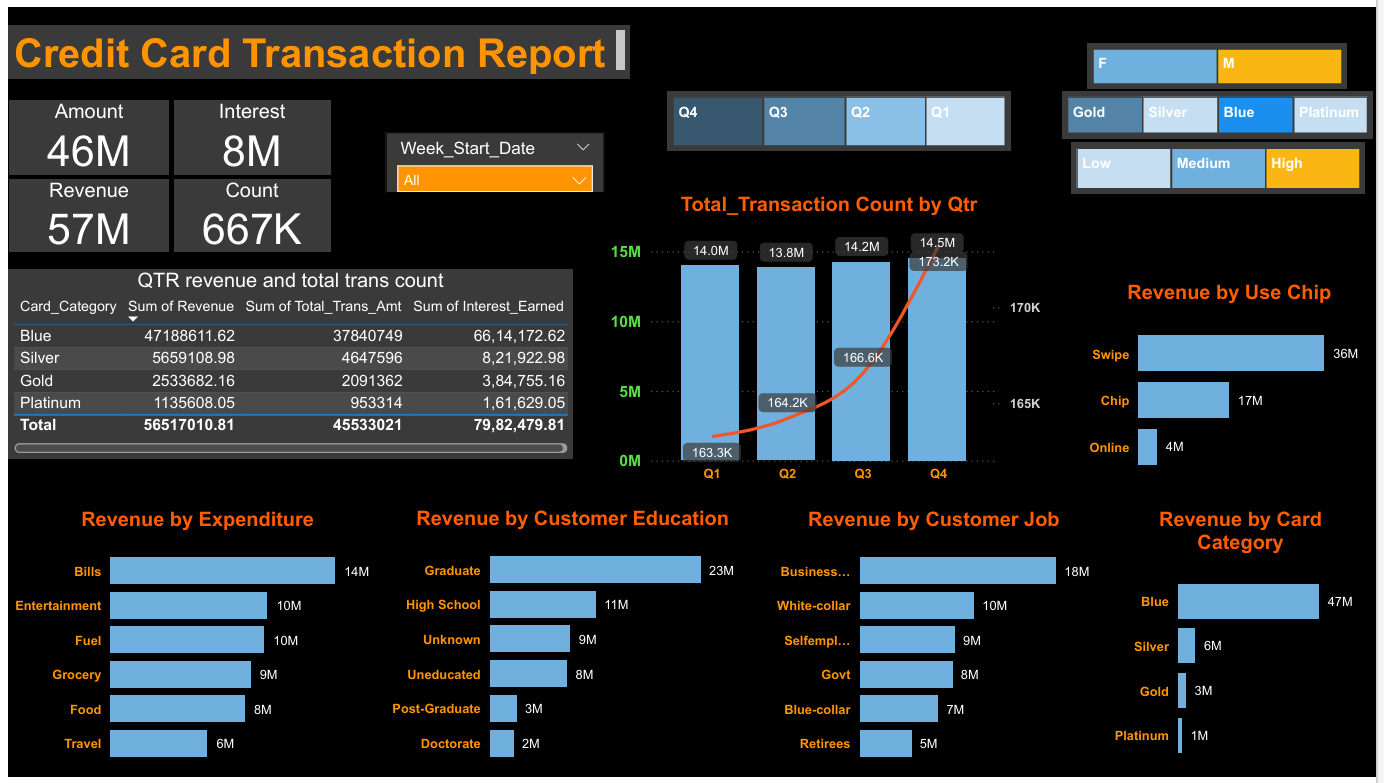

The page's visual inventory and layout, read from the dashboard file:
{"tool":"powerbi","page":{"name":"Page 2","canvas":[1280,720],"ordinal":1},"visuals":[{"type":"lineStackedColumnComboChart","title":" Total_Transaction Count by Qtr","fields":{"Y2":["Sum(creditcard_detail.Total_Trans_Ct)"],"Category":["credit_card (1).Qtr"],"Y":["Sum(credit_card (1).Revenue)"]},"box":[558.3,174.2,419.6,277.3],"z":0},{"type":"tableEx","title":"QTR revenue and  total trans count","fields":{"Values":["credit_card (1).Card_Category","Sum(credit_card (1).Revenue)","Sum(credit_card (1).Total_Trans_Amt)","Sum(credit_card (1).Interest_Earned)"]},"box":[0,244.6,527.7,177.6],"z":1000},{"type":"barChart","title":" Revenue by Expenditure ","fields":{"Category":["creditcard_detail.Exp_Type"],"Y":["Sum(credit_card (1).Revenue)"]},"box":[0,467.9,353.9,252.1],"z":2000},{"type":"barChart","title":" Revenue by Customer Education","fields":{"Y":["Sum(credit_card (1).Revenue)"],"Category":["customer.Education_Level"]},"box":[353.4,467.5,349.7,252.8],"z":3000},{"type":"barChart","title":" Revenue by Customer Job","fields":{"Y":["Sum(credit_card (1).Revenue)"],"Category":["customer.Customer_Job"]},"box":[702.7,467.5,326.4,252.3],"z":4000},{"type":"barChart","title":" Revenue by Card Category","fields":{"Y":["Sum(credit_card (1).Revenue)"],"Category":["credit_card (1).Card_Category"]},"box":[1029.1,467.5,248,252.3],"z":5000},{"type":"barChart","title":" Revenue by Use Chip","fields":{"Y":["Sum(credit_card (1).Revenue)"],"Category":["creditcard_detail.Use_Chip"]},"box":[1004.9,256.4,274.8,195.1],"z":6000},{"type":"slicer","fields":{"Values":["credit_card (1).Week_Start_Date"]},"box":[353.4,116.6,204.9,57.7],"z":7000},{"type":"treemap","fields":{"Group":["credit_card (1).Qtr"],"Values":["Avg(customer.Client_Num)"]},"box":[617.2,79.5,320.4,55.9],"z":8000},{"type":"treemap","fields":{"Values":["Avg(customer.Client_Num)"],"Group":["customer.Gender"]},"box":[1009.5,33.5,243.4,43.5],"z":9000},{"type":"treemap","fields":{"Values":["Avg(customer.Client_Num)"],"Group":["credit_card (1).Card_Category"]},"box":[986,79.5,290.6,43.5],"z":10000},{"type":"treemap","fields":{"Values":["Avg(customer.Client_Num)"],"Group":["customer.IncomeGroup"]},"box":[994.6,126.7,275.7,48.4],"z":11000},{"type":"card","title":"Revenue","fields":{"Values":["Sum(creditcard_detail.Revenue)"]},"box":[1.4,161.1,148.2,68.4],"z":12000},{"type":"card","title":"Interest","fields":{"Values":["Sum(credit_card (1).Interest_Earned)"]},"box":[155.4,86.9,145.4,69.8],"z":13000},{"type":"card","title":"Amount","fields":{"Values":["Sum(creditcard_detail.Total_Trans_Amt)"]},"box":[1.4,86.9,148.2,69.8],"z":14000},{"type":"card","title":"Count","fields":{"Values":["Sum(creditcard_detail.Total_Trans_Ct)"]},"box":[155.4,161.1,145.4,68.4],"z":15000},{"type":"textbox","box":[0,17.1,581.6,49.9],"z":16000}]}

Visuals, with their boxes in screenshot pixels (x1, y1, x2, y2), scaled from the page's 1280x720 canvas onto the 1384x783 screenshot:
" Total_Transaction Count by Qtr" lineStackedColumnComboChart: [604, 189, 1057, 491]
"QTR revenue and  total trans count" tableEx: [0, 266, 571, 459]
" Revenue by Expenditure " barChart: [0, 509, 383, 782]
" Revenue by Customer Education" barChart: [382, 508, 760, 782]
" Revenue by Customer Job" barChart: [760, 508, 1113, 782]
" Revenue by Card Category" barChart: [1113, 508, 1381, 782]
" Revenue by Use Chip" barChart: [1087, 279, 1383, 491]
slicer - credit_card (1).Week_Start_Date: [382, 127, 604, 190]
treemap - credit_card (1).Qtr x Avg(customer.Client_Num): [667, 86, 1014, 147]
treemap - Avg(customer.Client_Num) x customer.Gender: [1092, 36, 1355, 84]
treemap - Avg(customer.Client_Num) x credit_card (1).Card_Category: [1066, 86, 1380, 134]
treemap - Avg(customer.Client_Num) x customer.IncomeGroup: [1075, 138, 1374, 190]
"Revenue" card: [2, 175, 162, 250]
"Interest" card: [168, 95, 325, 170]
"Amount" card: [2, 95, 162, 170]
"Count" card: [168, 175, 325, 250]
textbox: [0, 19, 629, 73]
